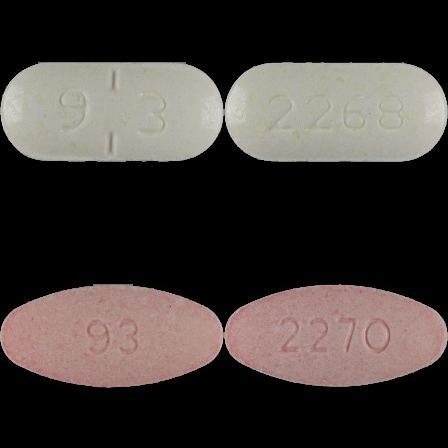0093-2268: (0, 0, 224, 224)
